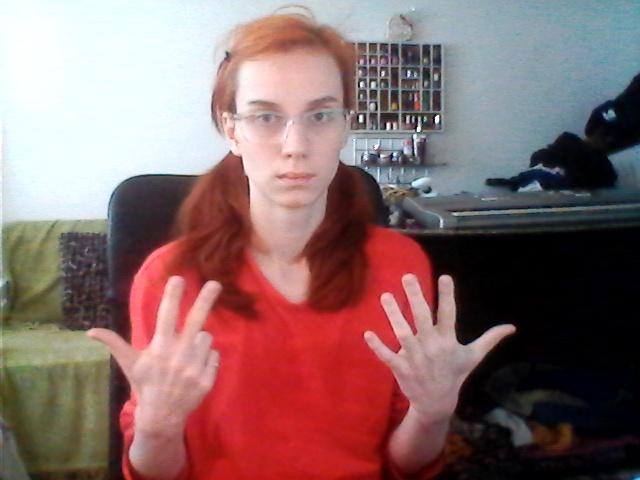osem: (87, 270, 521, 402)
